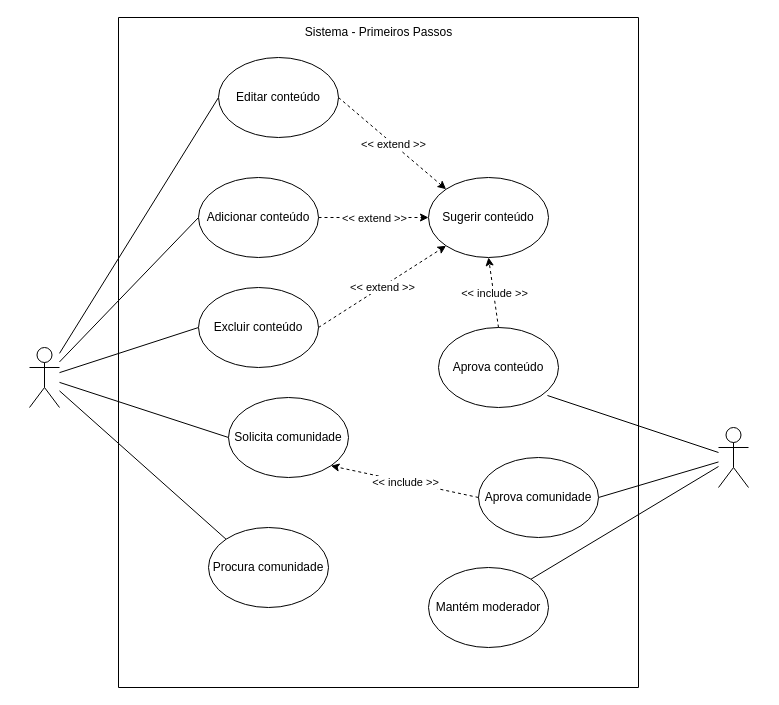
This 779x705 diagram has some shape labels left out. Here are the shapes that lost their labels. From the top down, the centre of each, then its label:
At pixel 44 377: "Estudante".
At pixel 733 457: "Moderador".
